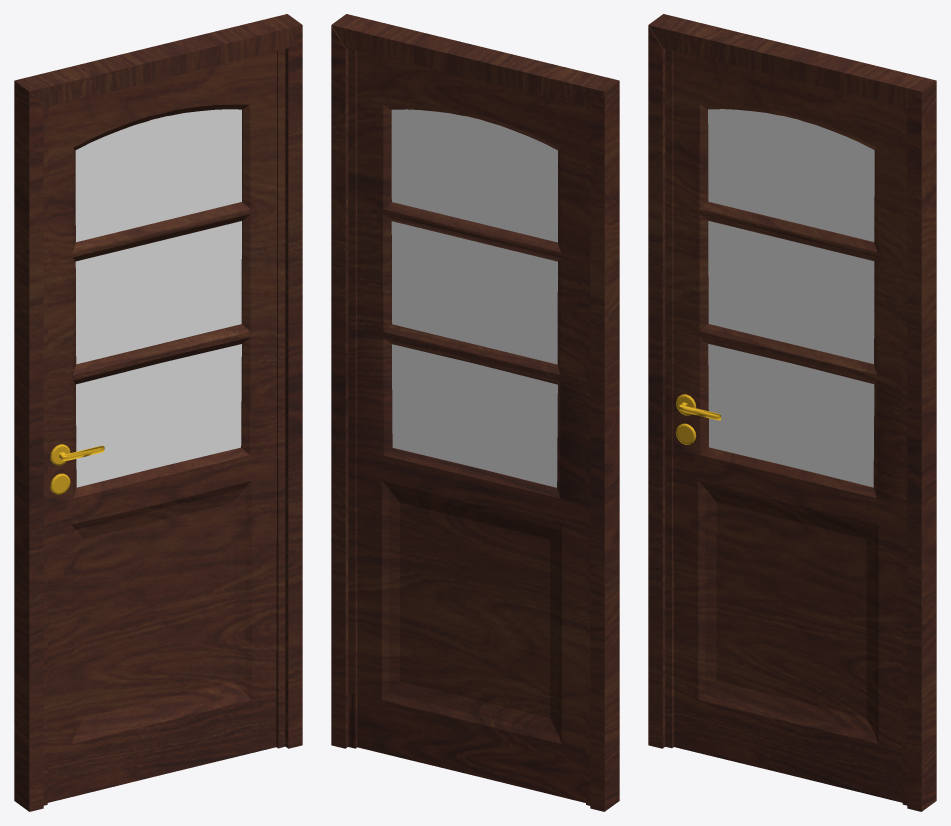
Rendered from PUERTA9_LUISIANA.glb.
3 views of the same model, side by side, from view 1: azimuth 30°, elevation 25°; view 2: azimuth 150°, elevation 25°; view 3: azimuth 330°, elevation 25° (orthographic).
Parts seen in each view (by area): view 1: Puerta9_LUISIANA, CRISTAL_GRANDE, Puerta9_Marco, Puerta9_Cerradura; view 2: Puerta9_LUISIANA, CRISTAL_GRANDE, Puerta9_Marco; view 3: Puerta9_LUISIANA, CRISTAL_GRANDE, Puerta9_Marco, Puerta9_Cerradura.
Part boxes in pixels (x1=…): Puerta9_LUISIANA: x1=43, y1=49, x2=285, y2=805; CRISTAL_GRANDE: x1=75, y1=109, x2=241, y2=487; Puerta9_Marco: x1=14, y1=14, x2=302, y2=811; Puerta9_Cerradura: x1=50, y1=444, x2=104, y2=494; Puerta9_LUISIANA: x1=348, y1=49, x2=590, y2=805; CRISTAL_GRANDE: x1=391, y1=109, x2=557, y2=487; Puerta9_Marco: x1=331, y1=14, x2=619, y2=811; Puerta9_LUISIANA: x1=665, y1=49, x2=907, y2=805; CRISTAL_GRANDE: x1=708, y1=109, x2=874, y2=487; Puerta9_Marco: x1=648, y1=14, x2=936, y2=811; Puerta9_Cerradura: x1=675, y1=394, x2=721, y2=444.
Size of the model in its own units: 769 by 1936 by 85.
5 materials, 3 textured.
